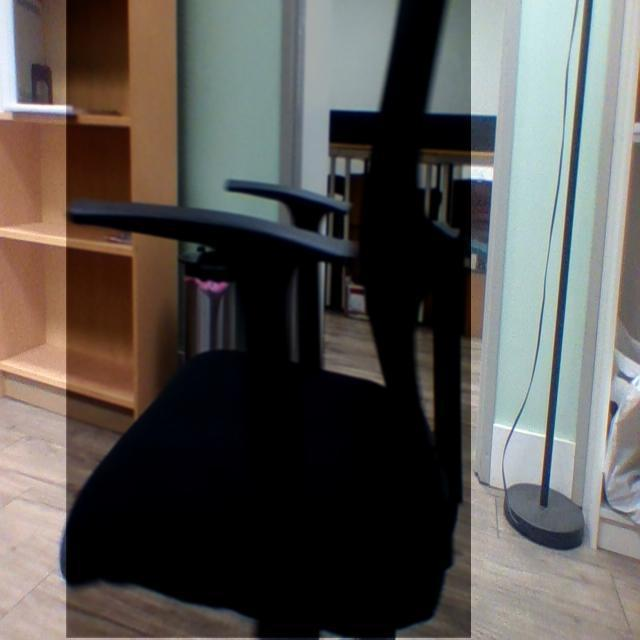chair: (54, 0, 464, 640)
